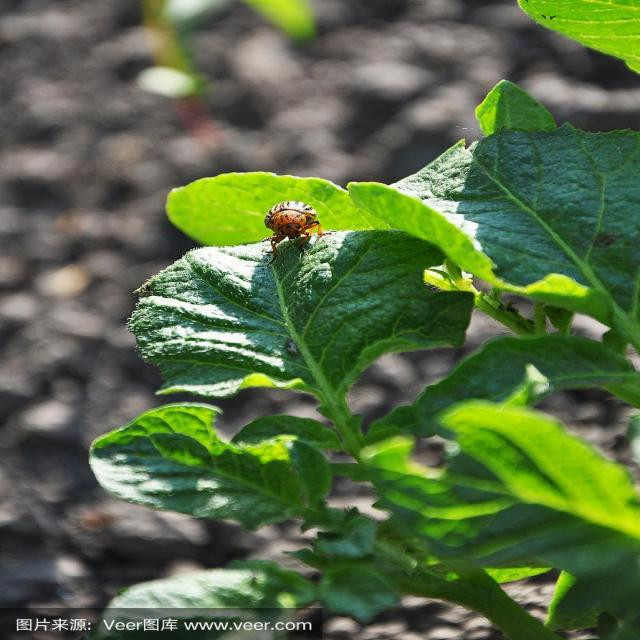ShuCaiHuaBanChong-Grown-: (258, 192, 356, 257)
